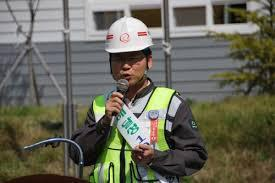helmet: (104, 15, 154, 53)
